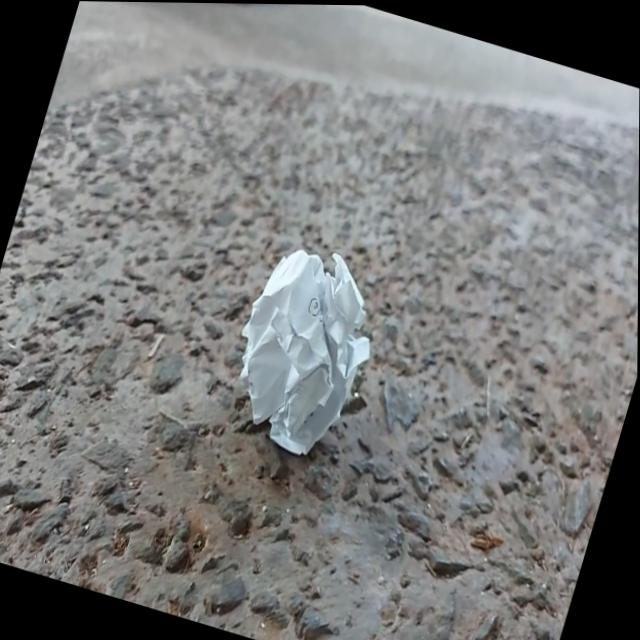paper: (241, 250, 369, 454)
